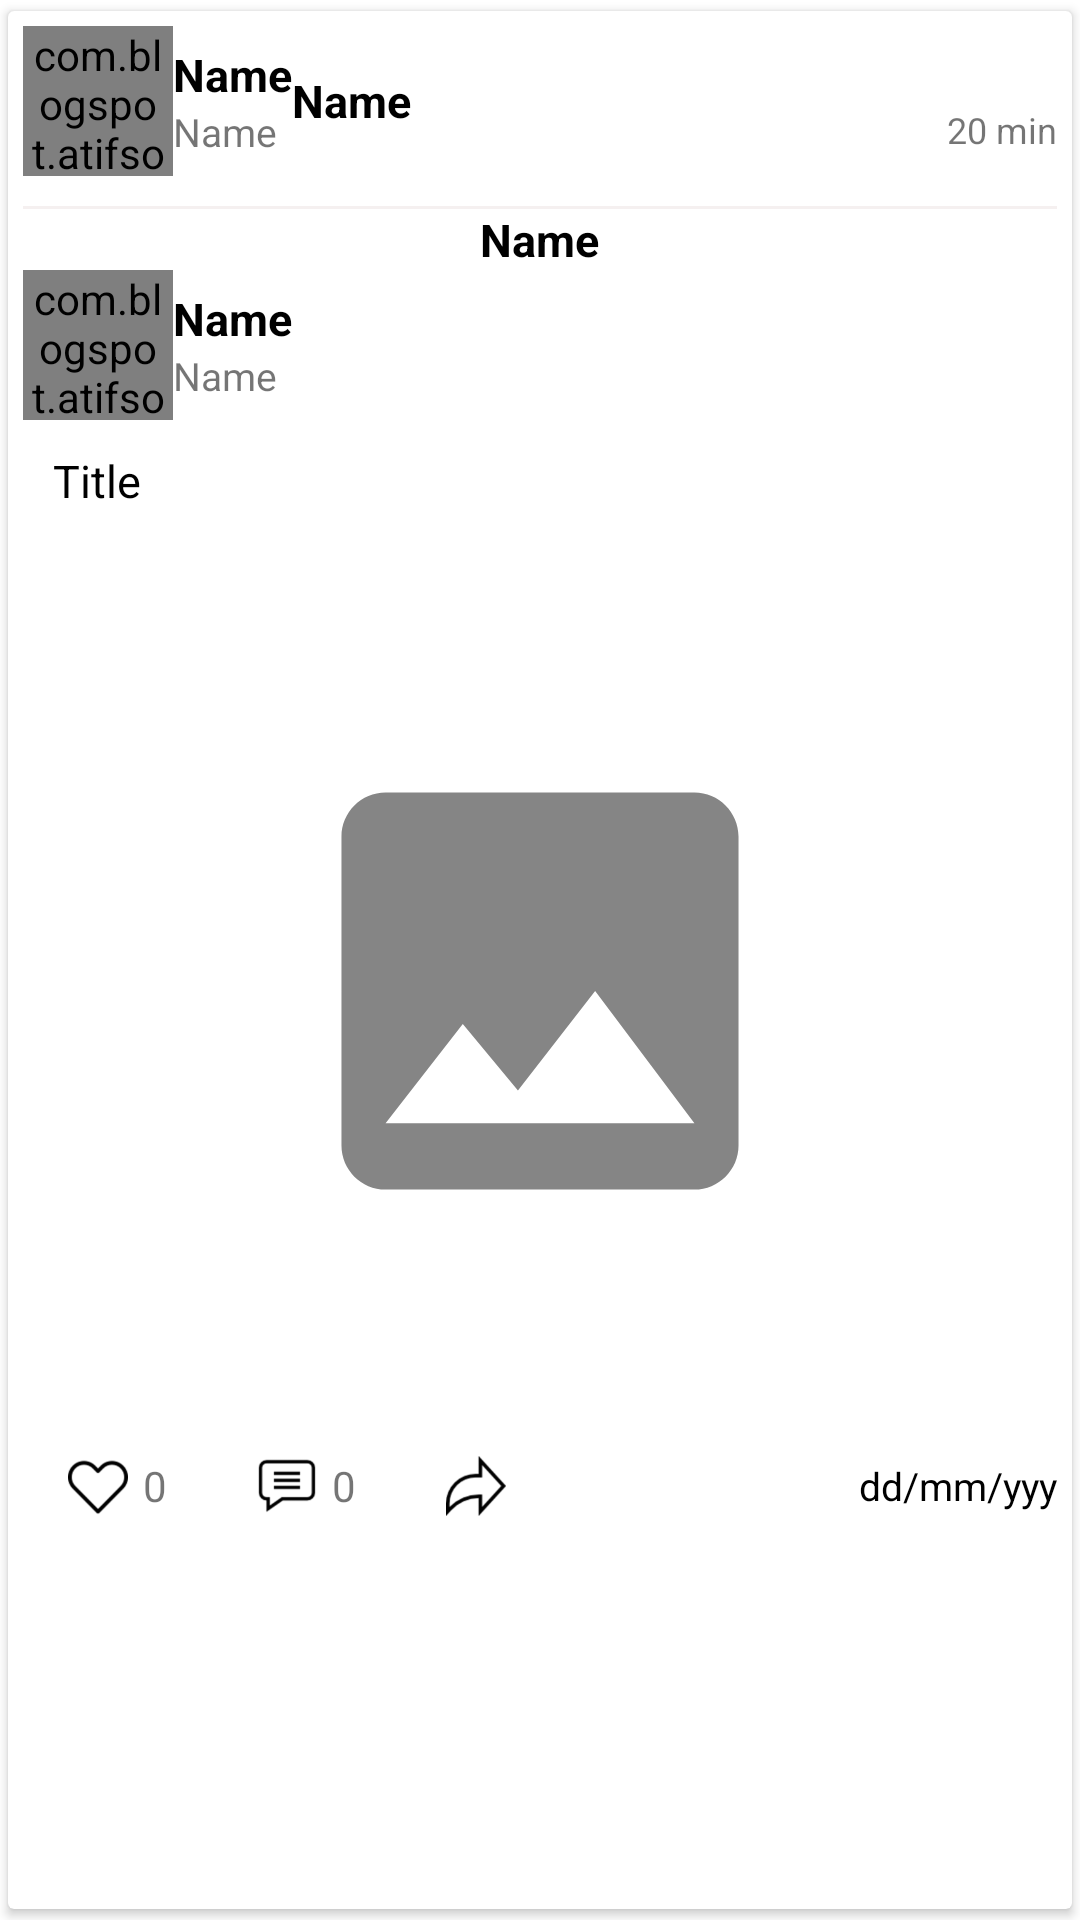

Point at icon controls on the screen. Image size 1080 × 1920, points as (x,y).
comment: (287,1485)
heart: (98,1487)
share: (476,1486)
